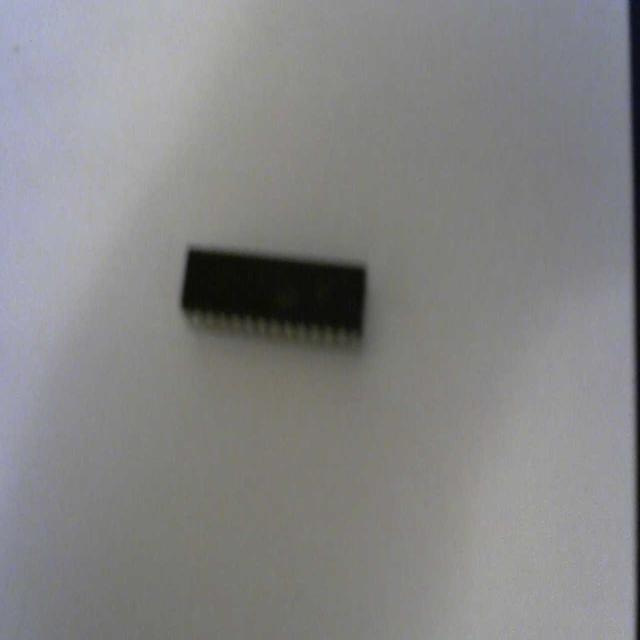atmega: (178, 239, 369, 353)
